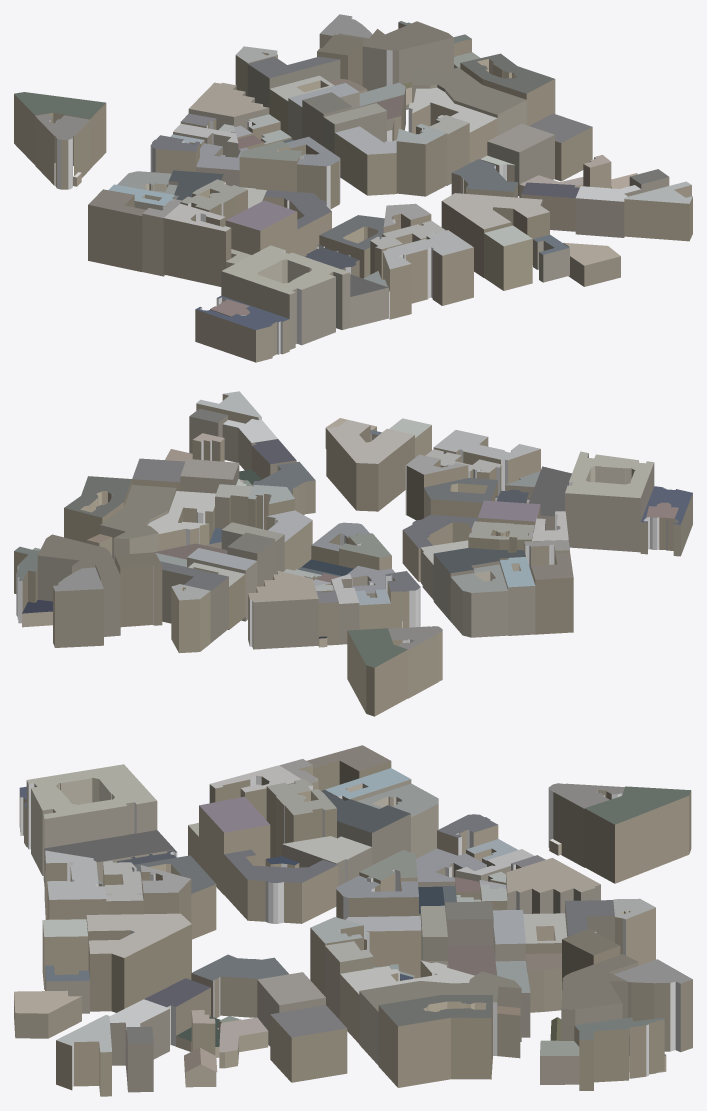
3 renders of one model, top to bottom at view 1: azimuth 30°, elevation 25°; view 2: azimuth 150°, elevation 25°; view 3: azimuth 270°, elevation 25°, orthographic. The views are drawn at different scales.
Parts seen in each view (by area): view 1: tuile; view 2: tuile; view 3: tuile.
Part boxes in pixels (x1=…): tuile: x1=14, y1=14, x2=692, y2=362; tuile: x1=14, y1=391, x2=692, y2=716; tuile: x1=14, y1=745, x2=692, y2=1096.
Size of the model in its own units: 272 by 36.69 by 274.
